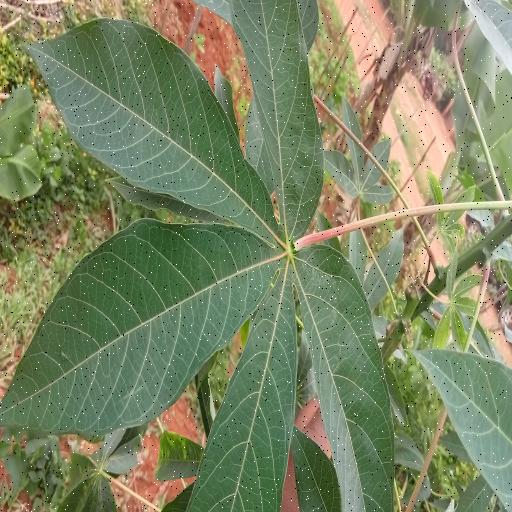Cassava_Healthy: (20, 0, 400, 512)
